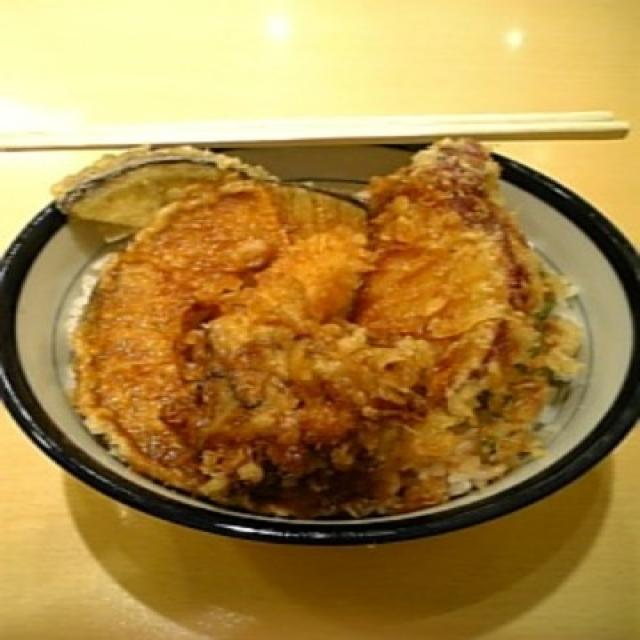熟制海鲜: (0, 108, 640, 547)
